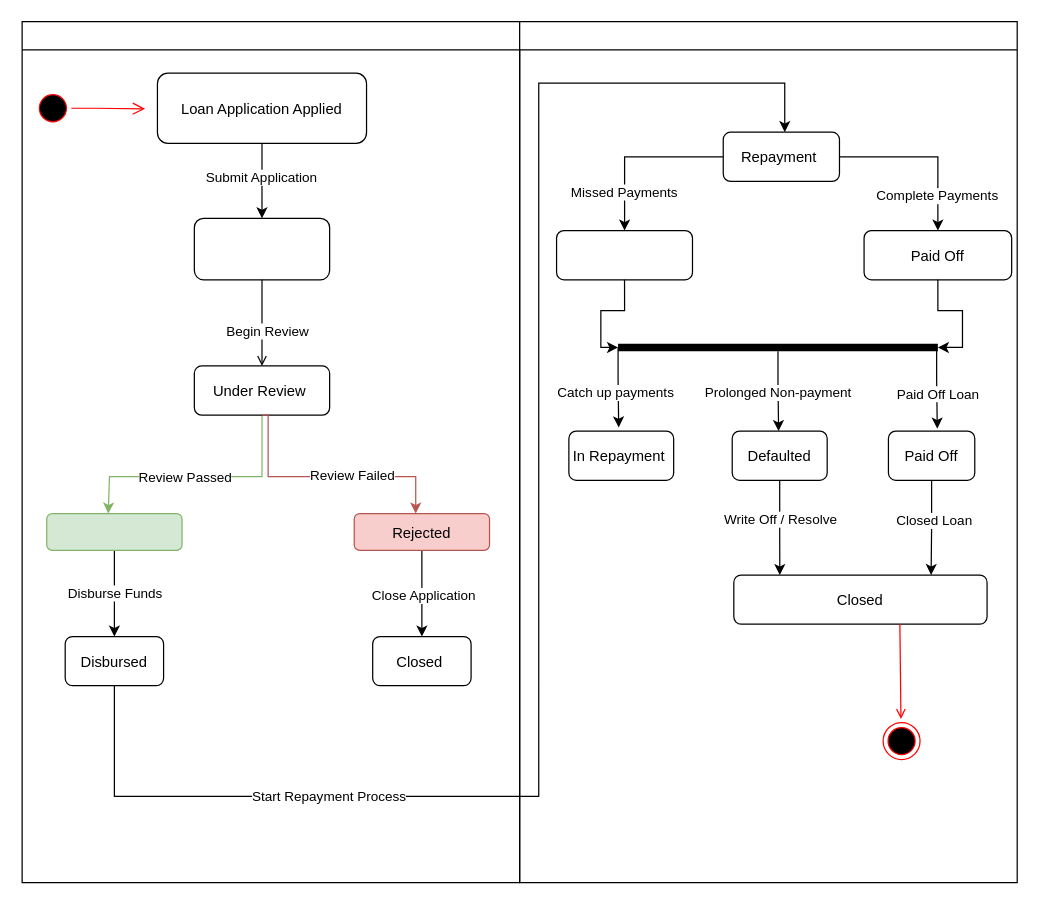
Some shapes in this 1038 by 904 pixel diagram are drawn without their labels. The box of each missing label's shape, as (x1, y1, x2, y2) in pixels:
Applied: (193, 217, 330, 280)
Approved: (46, 512, 182, 550)
Delinquent: (555, 229, 692, 280)
Thread 1: (21, 20, 520, 883)
Thread 2: (518, 20, 1017, 883)
